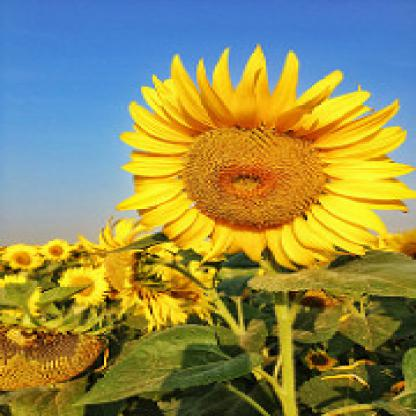SUN FLOWER: (98, 18, 415, 332)
